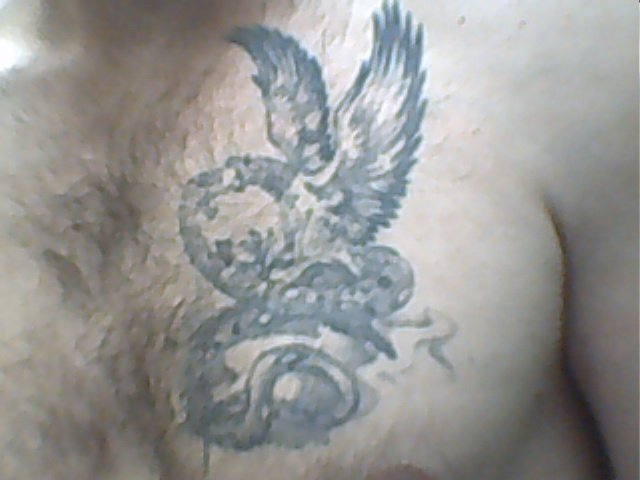tatu7_zmeya: (152, 144, 436, 450)
